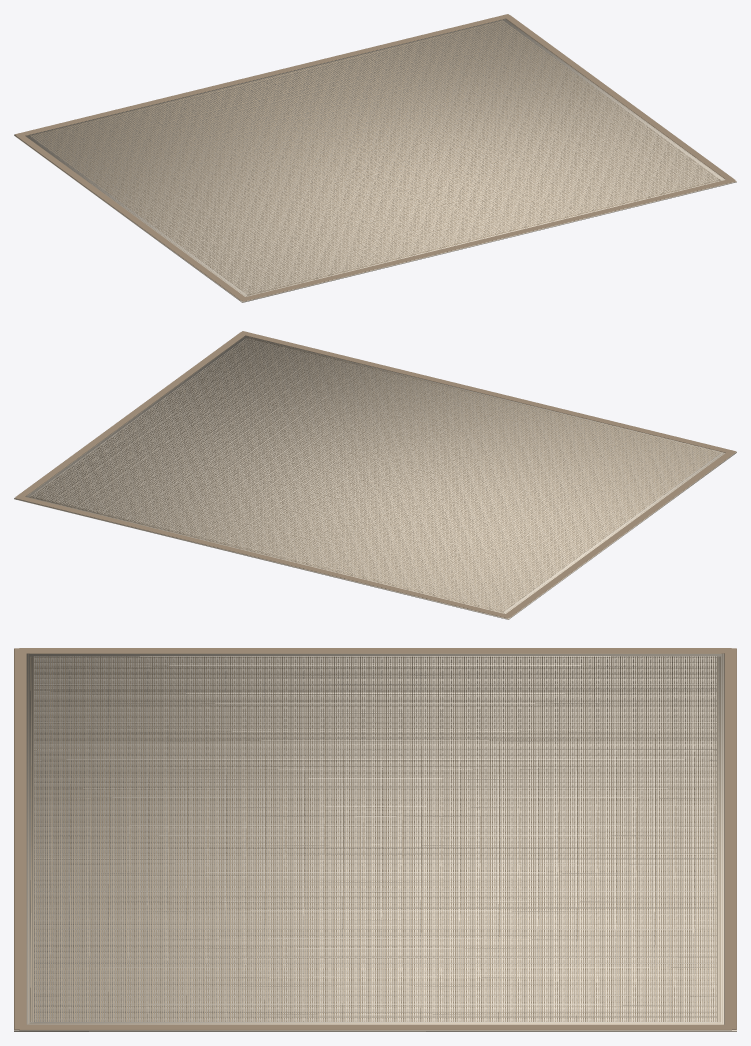
File: rug_linen.fbx
3 views of the same model, one above another, from view 1: azimuth 30°, elevation 25°; view 2: azimuth 150°, elevation 25°; view 3: azimuth 270°, elevation 25° (orthographic). The views are drawn at different scales.
Parts seen in each view (by area): view 1: rug_linen; view 2: rug_linen; view 3: rug_linen.
Boxes of the visible parts, box(x1,y1,x2,y2) form: rug_linen: box(14, 14, 736, 302); rug_linen: box(14, 331, 736, 619); rug_linen: box(14, 648, 736, 1031).
Size of the model in its own units: 4 by 0.012 by 3.2.
